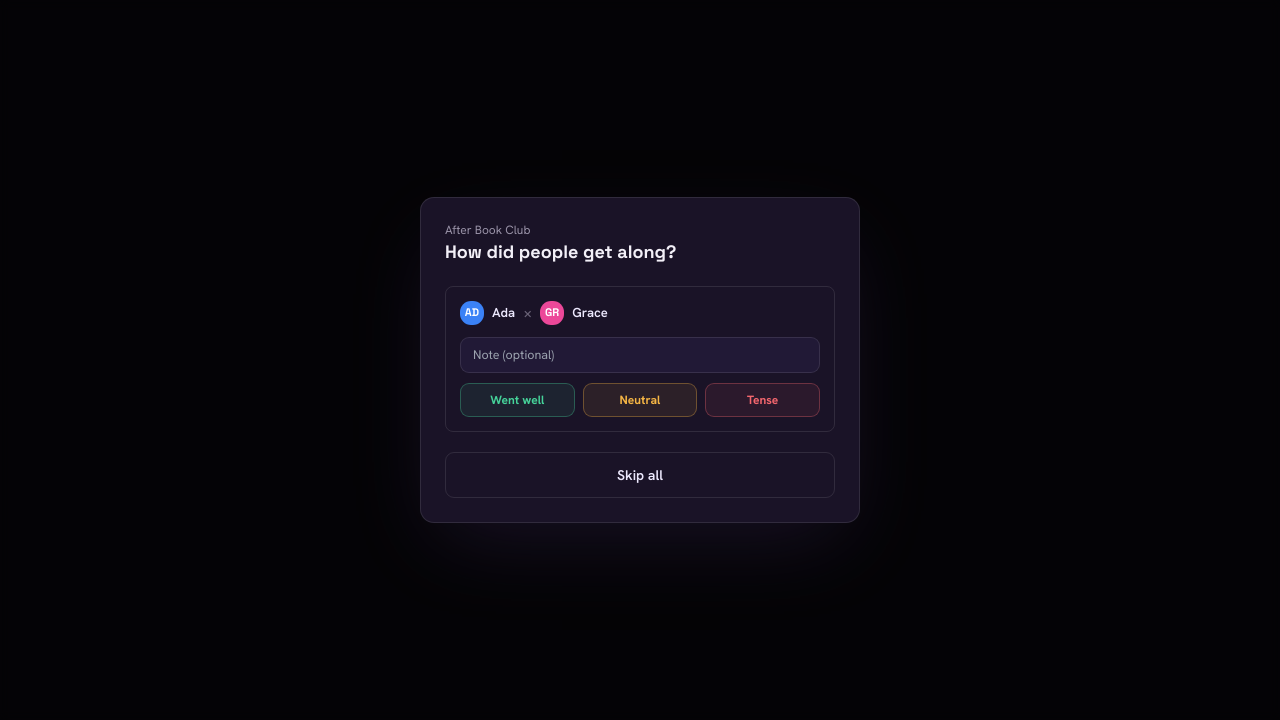
Test: GroupConnectionsNudge › marks a pair logged (removes it from the remaining list) after a successful save
Check: the text "Ada" is shown, box [492,303,515,322]
Click the button "Went well". click: (517, 400)
box: [460,383,575,417]
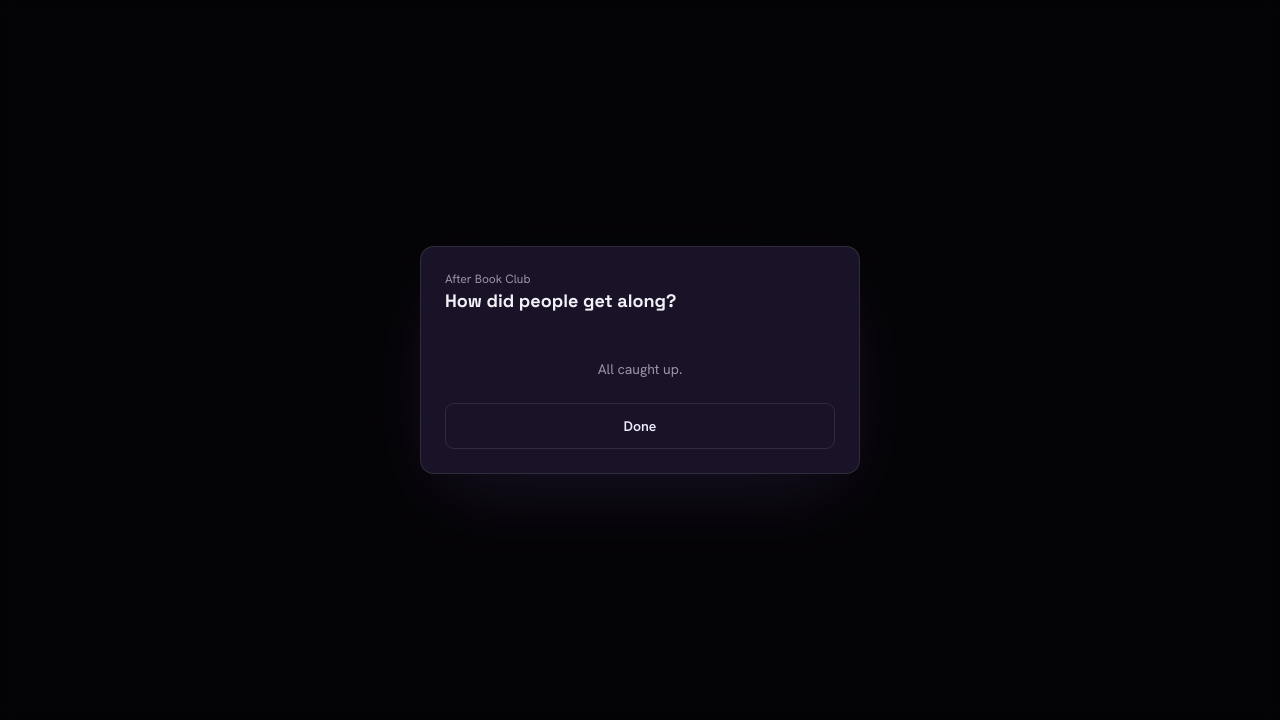
Check: the text "Ada" is gone
Check: the text "All caught up." is shown, box [598,360,682,378]
